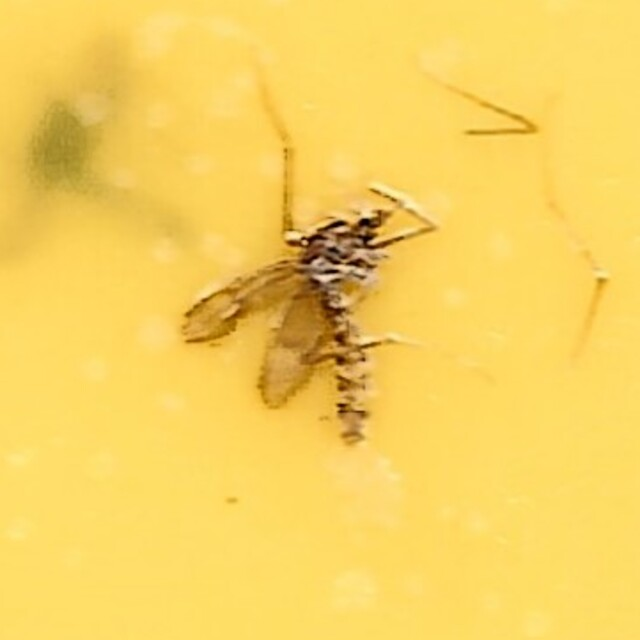Nematocera: (177, 176, 463, 464)
